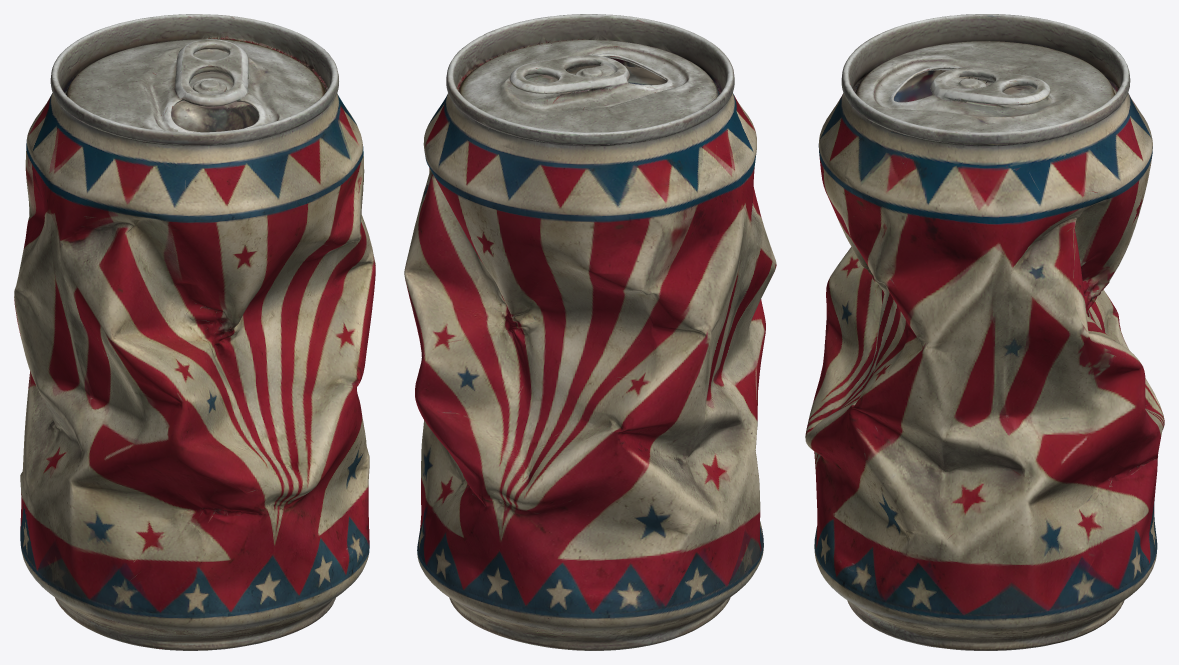
Rendered from Meshy_AI_Patriotic_Crushed_Can_0613224612_texture.fbx.
The picture shows the model from 3 angles, left to right: view 1: azimuth 30°, elevation 25°; view 2: azimuth 150°, elevation 25°; view 3: azimuth 270°, elevation 25°; orthographic projection.
Parts seen in each view (by area): view 1: Mesh_0; view 2: Mesh_0; view 3: Mesh_0.
Boxes of the visible parts, x1,y1,x2,y2 form: Mesh_0: (14, 14, 375, 650); Mesh_0: (404, 14, 776, 650); Mesh_0: (805, 14, 1164, 650).
Size of the model in its own units: 116 by 191 by 119.
1 material, 1 textured.
